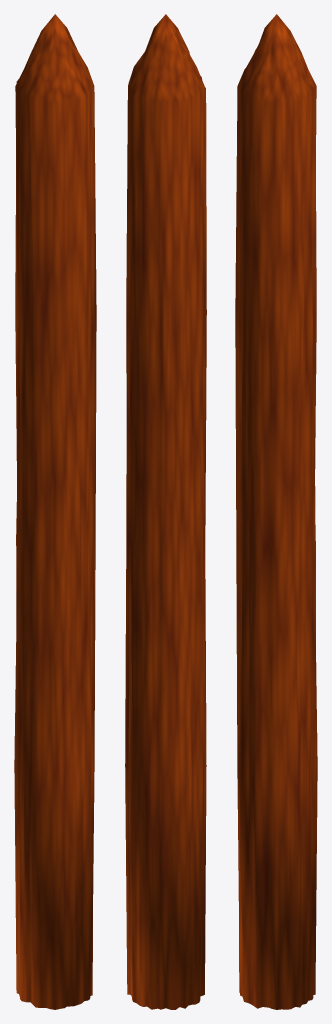
The model's file is PilastraPlaca.fbx.
3 renders of one model, left to right at view 1: azimuth 90°, elevation 25°; view 2: azimuth 210°, elevation 25°; view 3: azimuth 270°, elevation 25°, orthographic.
Parts seen in each view (by area): view 1: Circle.001; view 2: Circle.001; view 3: Circle.001.
Boxes of the visible parts, x1,y1,x2,y2 form: Circle.001: (14,14,96,1009); Circle.001: (125,14,206,1009); Circle.001: (235,14,317,1009).
Size of the model in its own units: 224 by 2974 by 226.
1 material, 1 textured.
